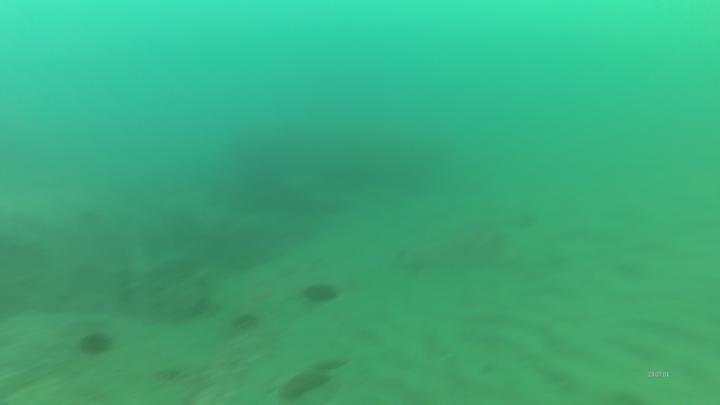echinus: (78, 328, 115, 356), (302, 283, 338, 308)
